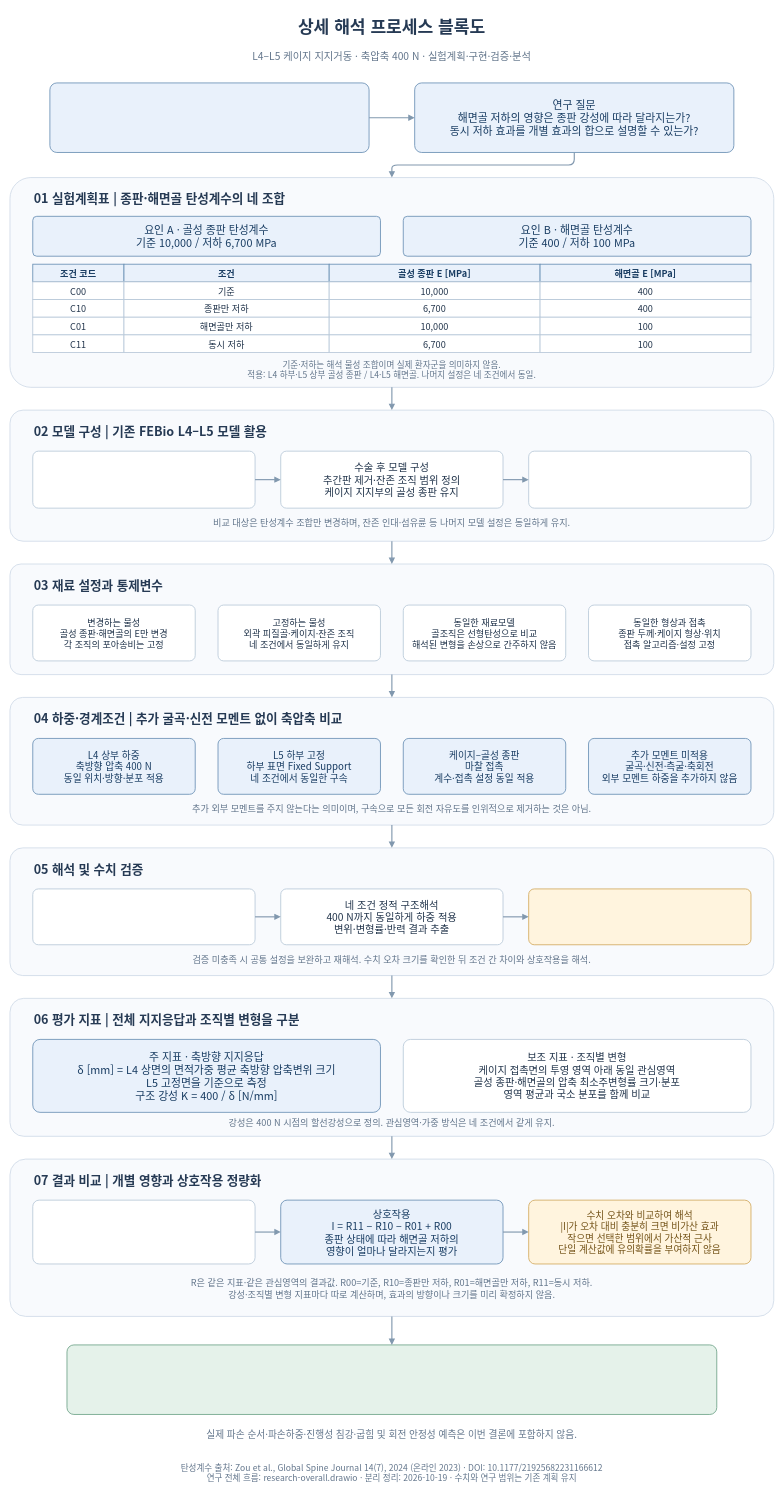
Image size: 784x1500. Some labels were removed from this diagram. The box of each missing label's shape, as (x1, y1, x2, y2) in pixels:
개별 영향 종판: R10 − R00 해면골: R01 − R00 기준 대비 변화량·변화율 비교: (32, 1199, 255, 1264)
모델·접촉 점검 골성 종판 영역과 접촉면 확인 공통 메시·하중·추출 방식 설정: (32, 888, 255, 945)
수렴·평형 검증 국소 메시 세분화와 접촉 수렴 확인 외력–반력 및 결과 안정성 확인: (528, 888, 751, 945)
연구 목적 종판·해면골 강성 변화의 개별 기여와 전체 케이지 지지거동의 관계 정량화: (49, 82, 369, 153)
일반 경사형 케이지 1종 삽입 형상·높이·위치·접촉면을 고정 네 조건에서 동일 모델 사용: (528, 450, 751, 508)
포스터의 결론 범위 선택한 L4–L5 형상·물성 조합·축압축 조건에서 종판·해면골 탄성계수 변화의 개별 기여와 복합 효과를 설명: (66, 1344, 717, 1415)
해부학 모델 확인 골성 종판·해면골·외곽 피질골 분리 ANSYS 사용 시 형상·요소·단위 확인: (32, 450, 255, 508)
